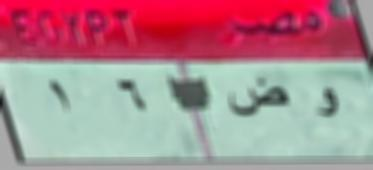1: (46, 75, 76, 118)
6: (116, 73, 150, 118)
daad: (224, 75, 294, 122)
waw: (312, 81, 342, 127)
